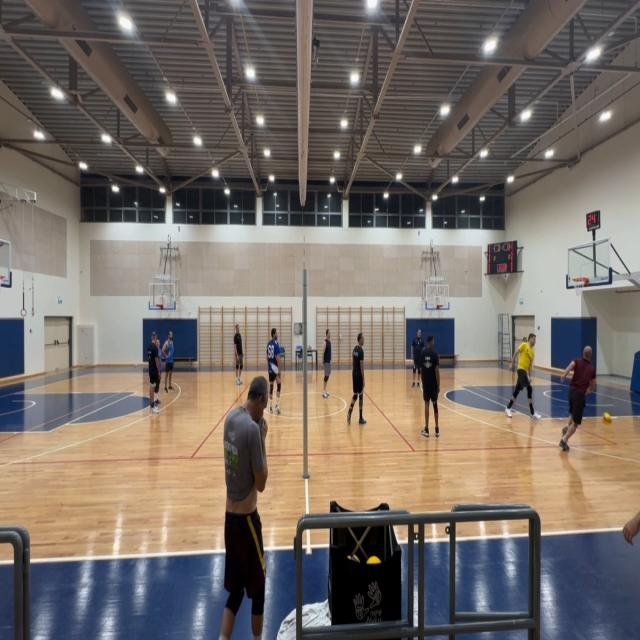volleyball: (602, 412, 612, 426)
